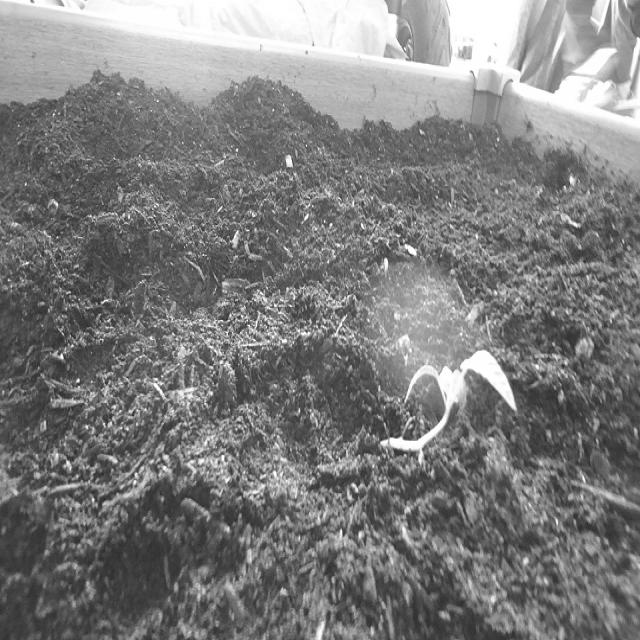Unhealthy: (367, 324, 520, 479)
